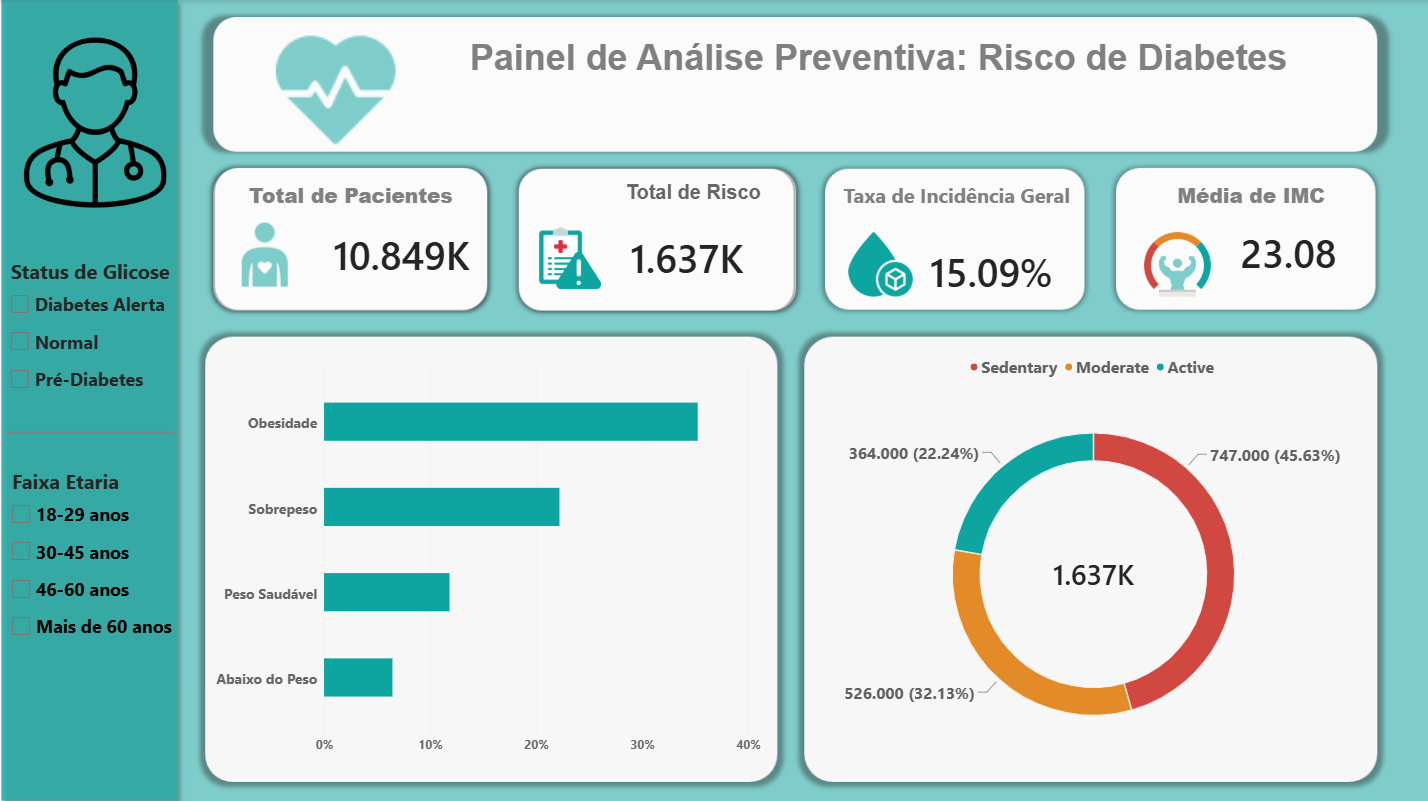

Layout of this report page (visuals, bound fields, positions):
{"tool":"powerbi","page":{"name":"Dashboard","canvas":[1920,1080],"ordinal":0},"visuals":[{"type":"cardVisual","title":"Total de Pacientes","fields":{"Data":["Metrics.Total Pacientes"]},"box":[427.6,290.8,228.8,96.2],"z":0},{"type":"cardVisual","title":"Média de IMC","fields":{"Data":["Metrics.Taxa Risco (%)"]},"box":[1223,303.6,215.9,117.6],"z":1000},{"type":"textbox","box":[292.9,241.6,363.5,59.9],"z":2000},{"type":"textbox","box":[1101.1,241.6,365.6,62],"z":3000},{"type":"textbox","box":[1543.7,241.6,267.3,59.9],"z":4000},{"type":"textbox","box":[0,502,150,300],"z":5000},{"type":"textbox","box":[500.7,39.6,1340,113.5],"z":6000},{"type":"barChart","fields":{"Category":["Fato_Pacientes.Categoria_IMC"],"Y":["Metrics.Taxa Diabetes"]},"box":[291.8,484.5,729.5,527.7],"z":7000},{"type":"donutChart","fields":{"Category":["Dim_EstiloVida.Physical_Activity"],"Y":["Sum(Fato_Pacientes.Diagnostico_Risco_Alto)"]},"box":[1102,470.9,728,554.4],"z":8000},{"type":"slicer","fields":{"Values":["Fato_Pacientes.Faixa_Etaria"]},"box":[12.6,625,225.1,246.8],"z":9000},{"type":"slicer","fields":{"Values":["Fato_Pacientes.Status_Glicose"]},"box":[12.3,343.7,252.2,201.7],"z":10000},{"type":"cardVisual","fields":{"Data":["Metrics.Media IMC"]},"box":[1623,277.2,207.1,118.6],"z":11000},{"type":"image","box":[290.8,297.2,136.8,85.5],"z":12000},{"type":"image","box":[290.8,40.6,326,160.3],"z":13000},{"type":"image","box":[13.4,50.1,238.8,227.1],"z":14000},{"type":"image","box":[1498.8,303.6,158.2,98.4],"z":15000},{"type":"image","box":[1101.1,303.6,162.5,98.4],"z":16000},{"type":"shape","box":[12.6,502.5,225.1,149.5],"z":17000},{"type":"cardVisual","fields":{"Data":["Metrics.Total de Risco"]},"box":[803.9,290.8,239.5,104.8],"z":18000},{"type":"textbox","box":[803.9,241.6,256.6,62],"z":19000},{"type":"image","box":[694.9,301.5,145.4,85.5],"z":20000}]}

Visuals, with their boxes in screenshot pixels (x1, y1, x2, y2), scaled from the page's 1920x1080 canvas onto the 1428x801 screenshot:
"Total de Pacientes" cardVisual: BBox(318, 216, 488, 287)
"Média de IMC" cardVisual: BBox(910, 225, 1070, 312)
textbox: BBox(218, 179, 488, 224)
textbox: BBox(819, 179, 1091, 225)
textbox: BBox(1148, 179, 1347, 224)
textbox: BBox(0, 372, 112, 595)
textbox: BBox(372, 29, 1369, 114)
barChart - Fato_Pacientes.Categoria_IMC x Metrics.Taxa Diabetes: BBox(217, 359, 760, 751)
donutChart - Dim_EstiloVida.Physical_Activity x Sum(Fato_Pacientes.Diagnostico_Risco_Alto): BBox(820, 349, 1361, 760)
slicer - Fato_Pacientes.Faixa_Etaria: BBox(9, 464, 177, 647)
slicer - Fato_Pacientes.Status_Glicose: BBox(9, 255, 197, 405)
cardVisual - Metrics.Media IMC: BBox(1207, 206, 1361, 294)
image: BBox(216, 220, 318, 284)
image: BBox(216, 30, 459, 149)
image: BBox(10, 37, 188, 206)
image: BBox(1115, 225, 1232, 298)
image: BBox(819, 225, 940, 298)
shape: BBox(9, 373, 177, 484)
cardVisual - Metrics.Total de Risco: BBox(598, 216, 776, 293)
textbox: BBox(598, 179, 789, 225)
image: BBox(517, 224, 625, 287)
